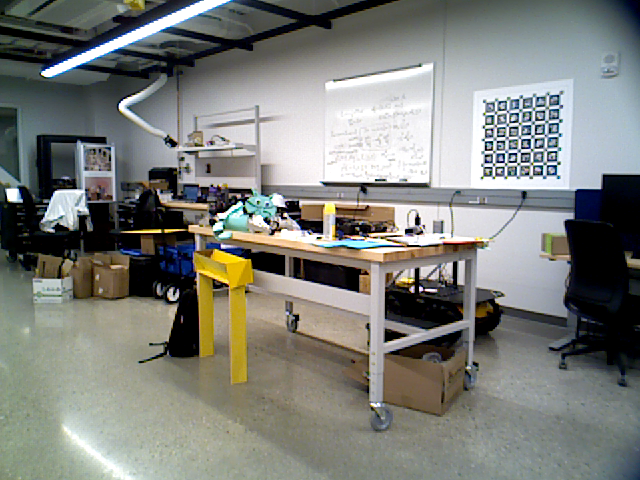painting4: (467, 75, 574, 189)
